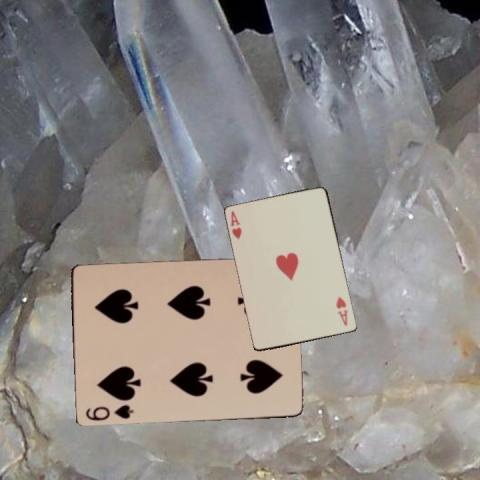6s: (82, 402, 134, 422)
Ah: (333, 294, 350, 328), (228, 208, 243, 241)
